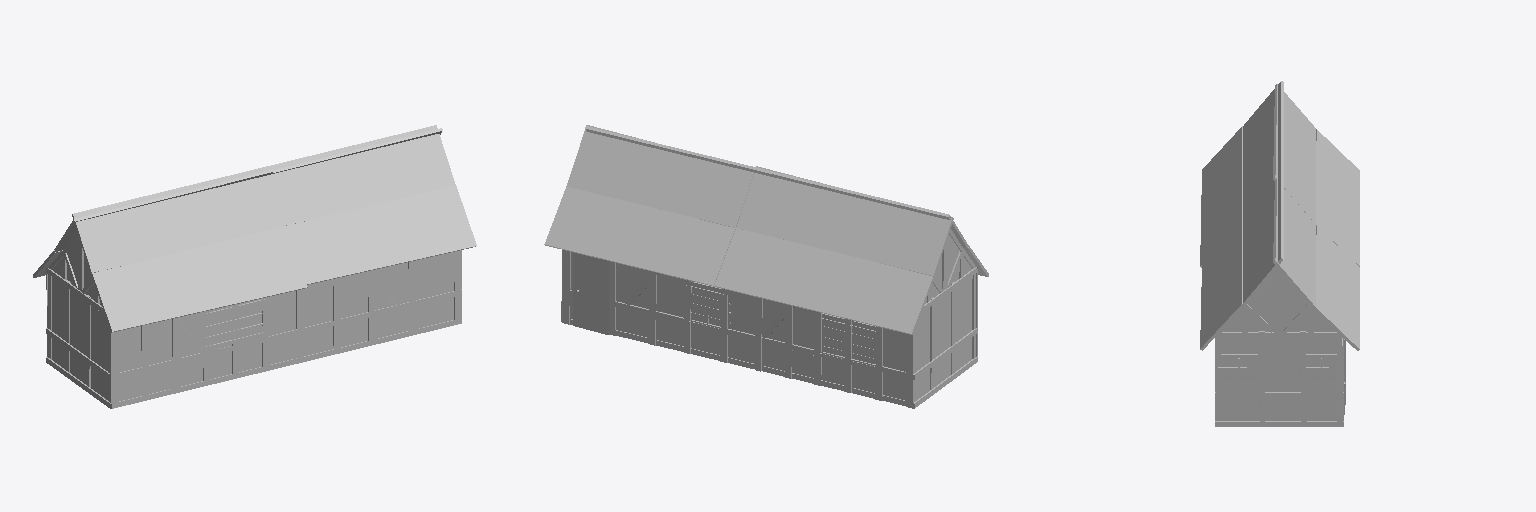
Rendered from townhouse big.obj.
3 renders of one model, left to right at view 1: azimuth 30°, elevation 25°; view 2: azimuth 150°, elevation 25°; view 3: azimuth 270°, elevation 25°, orthographic.
Visible parts, largest first — view 1: Cube.019_Cube.090; view 2: Cube.019_Cube.090; view 3: Cube.019_Cube.090.
Part boxes in pixels (x1,y1,x2,y2): Cube.019_Cube.090: (33,125,476,408); Cube.019_Cube.090: (544,125,988,408); Cube.019_Cube.090: (1200,81,1359,426).
Bounding box in the file's own units: 9.46 × 4.25 × 3.57.